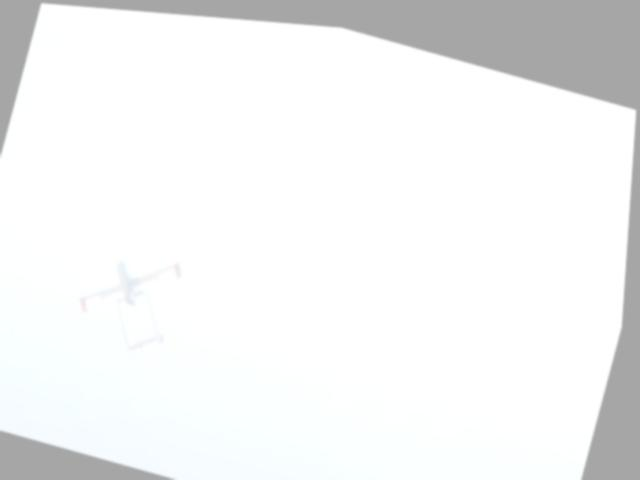iha: (70, 228, 195, 363)
